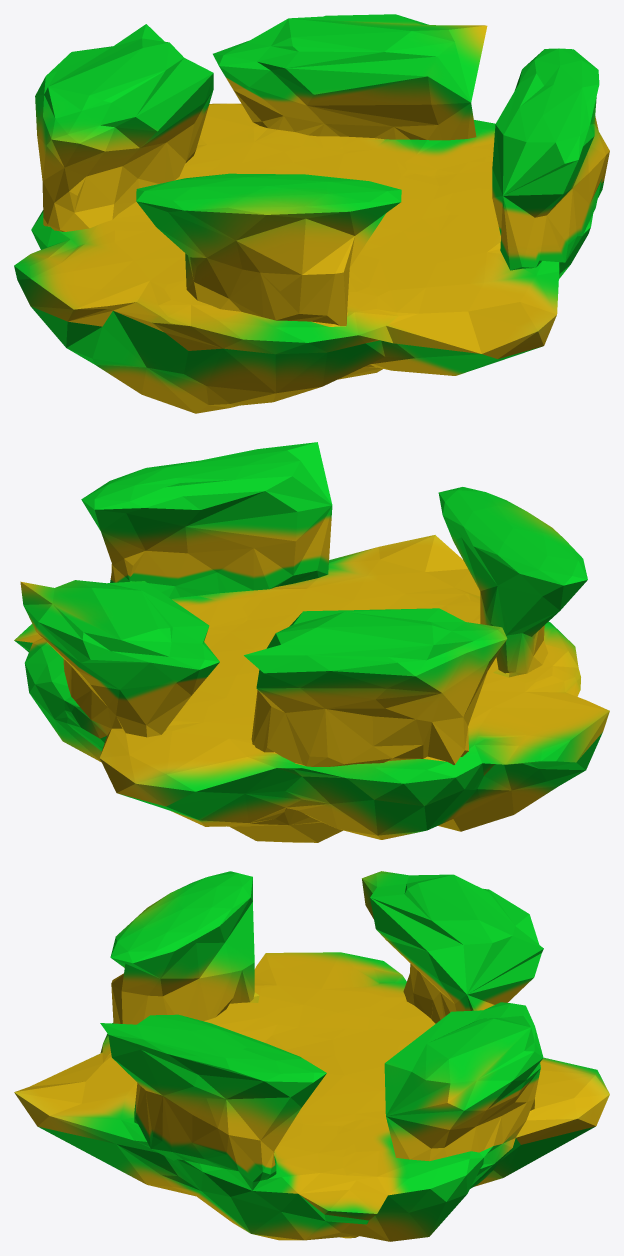
The model's file is roadCross.obj.
3 views of the same model, one above another, from view 1: azimuth 30°, elevation 25°; view 2: azimuth 150°, elevation 25°; view 3: azimuth 270°, elevation 25° (orthographic). The views are drawn at different scales.
Visible parts, largest first — view 1: Ico_球體.008; view 2: Ico_球體.008; view 3: Ico_球體.008.
Boxes of the visible parts, x1,y1,x2,y2 form: Ico_球體.008: [14, 14, 609, 413]; Ico_球體.008: [14, 442, 609, 842]; Ico_球體.008: [14, 871, 609, 1241].
Bounding box in the file's own units: 321 × 165 × 327.
1 material, 1 textured.
